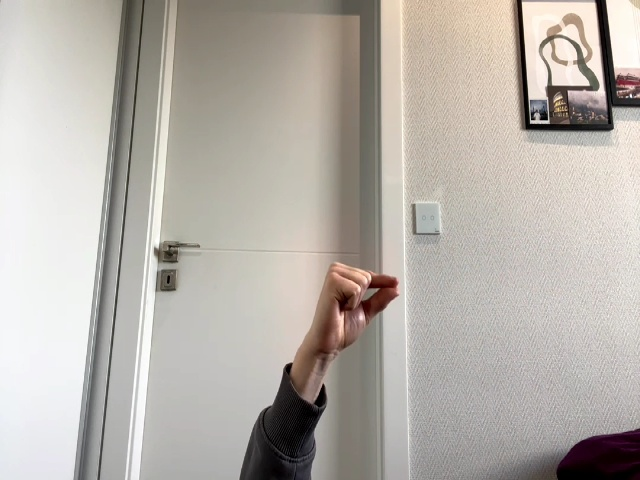P: (311, 262, 398, 359)
